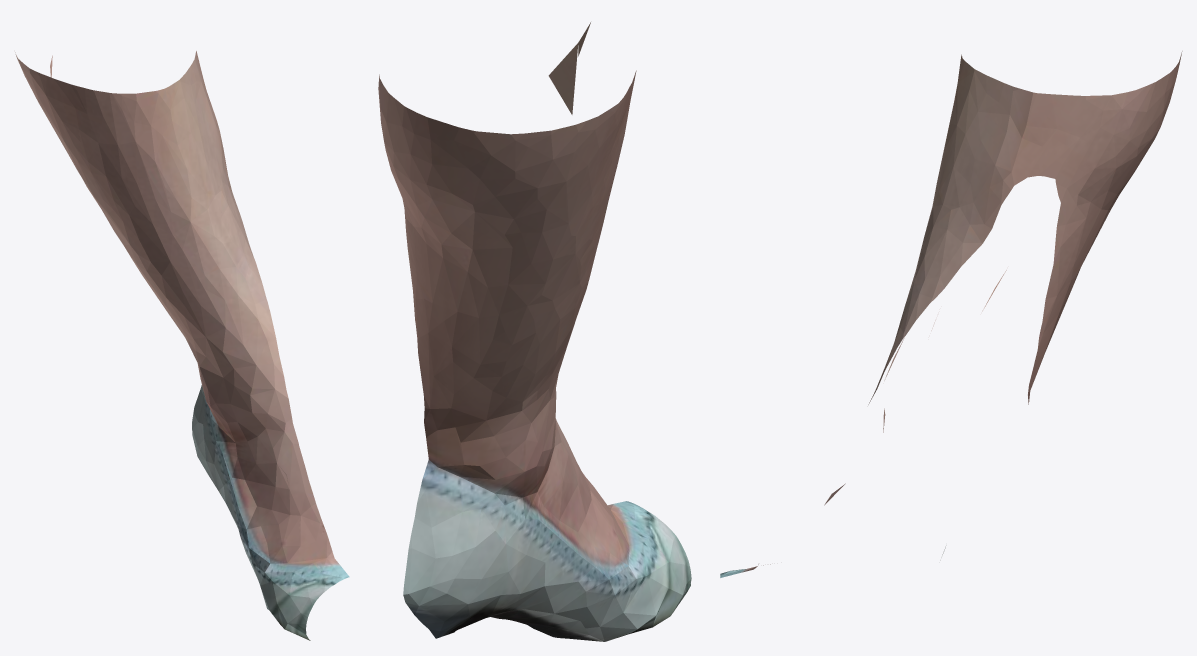
3 views of the same model, side by side, from view 1: azimuth 30°, elevation 25°; view 2: azimuth 150°, elevation 25°; view 3: azimuth 270°, elevation 25° (orthographic). The views are drawn at different scales.
Size of the model in its own units: 107 by 315 by 244.
Materials: 1 (1 with a texture image).
